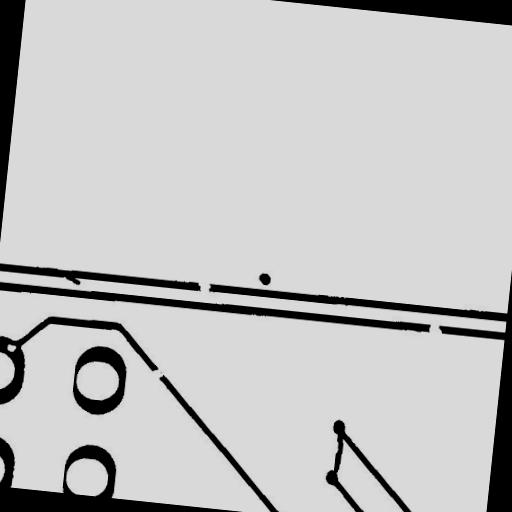copper: (250, 264, 279, 294)
open: (420, 314, 451, 346), (188, 272, 220, 302), (142, 360, 171, 388)
pin-hole: (0, 335, 24, 360)
short: (322, 419, 353, 485)
spur: (54, 264, 89, 293)
